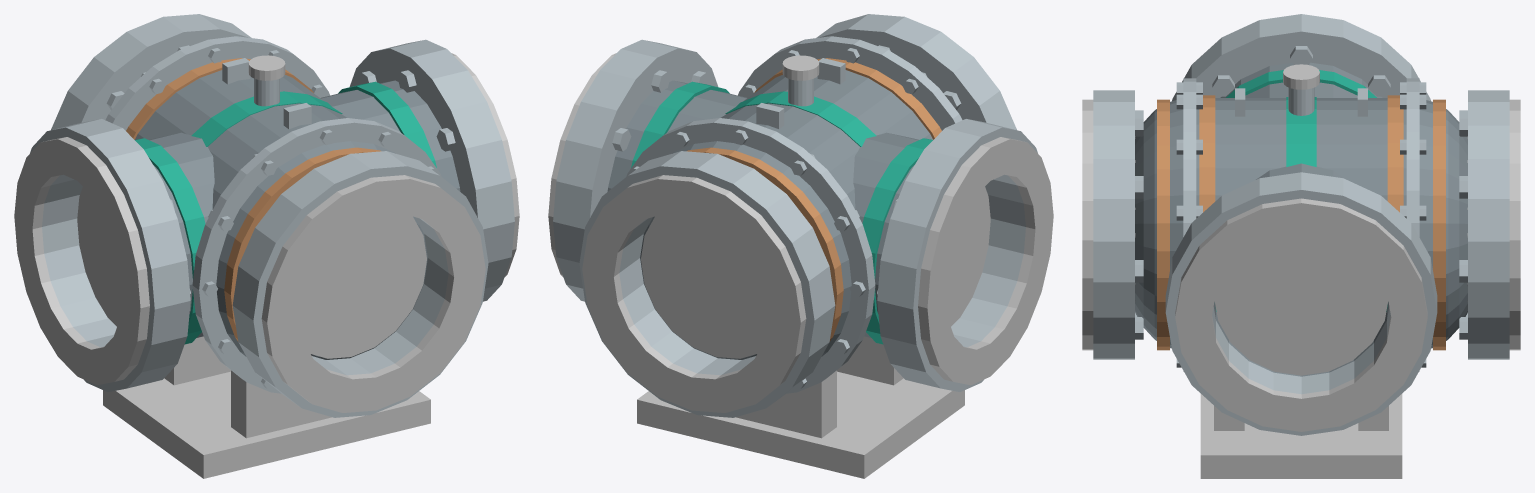
File: body.obj
3 views of the same model, side by side, from view 1: azimuth 30°, elevation 25°; view 2: azimuth 150°, elevation 25°; view 3: azimuth 270°, elevation 25° (orthographic).
Size of the model in its own units: 1 by 0.885 by 1.
